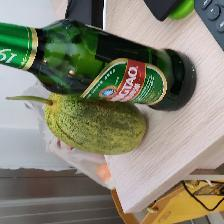gua: (44, 100, 143, 155)
